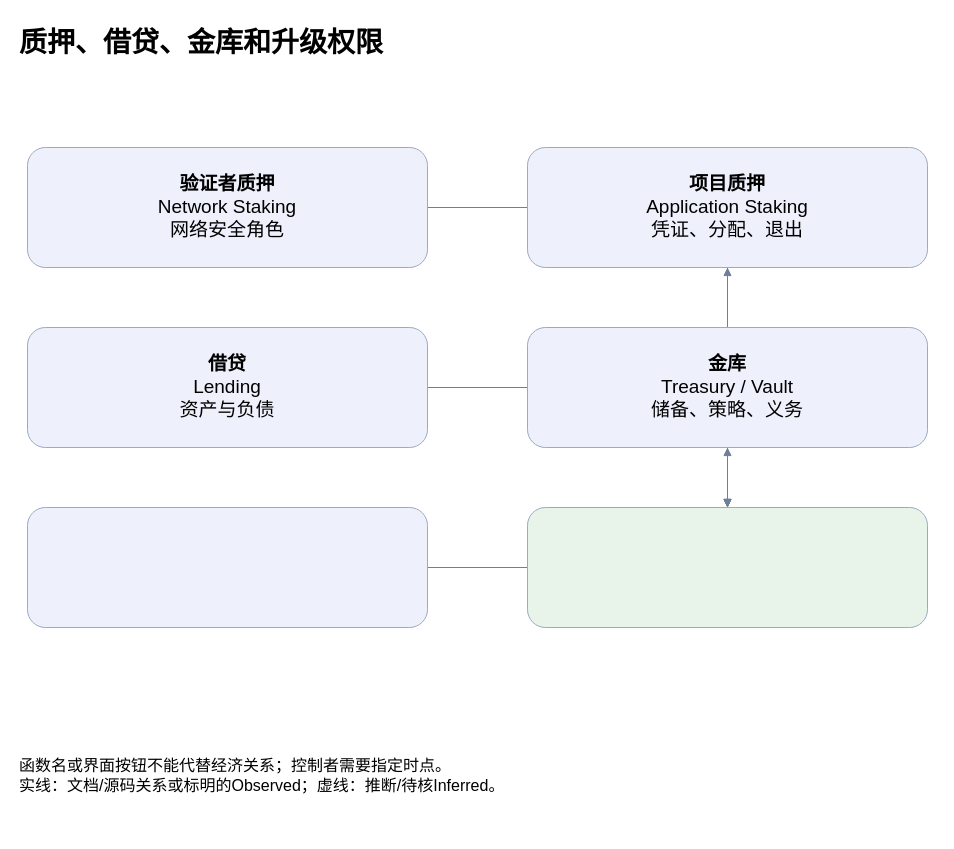
This 954x849 diagram has some shape labels left out. The shapes that lost their labels are listed below. From the top down, each one's box as (x1, y1, x2, y2) in pixels, then its label:
(26, 506, 428, 628): 代理与治理 Proxy / Roles / Timelock 权限与版本
(526, 506, 928, 628): 分析边界 Separate Economic Models 不能合并成一个收益数
